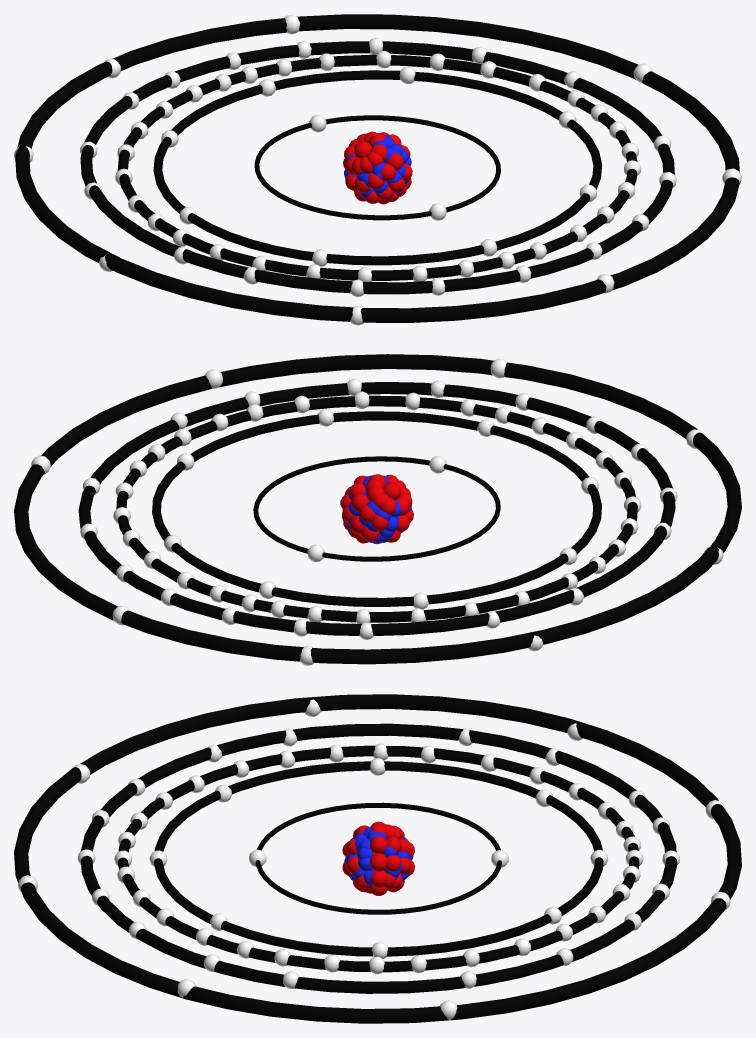
File: 53 Yodo.fbx
3 views of the same model, one above another, from view 1: azimuth 30°, elevation 25°; view 2: azimuth 150°, elevation 25°; view 3: azimuth 270°, elevation 25° (orthographic).
Parts seen in each view (by area): view 1: Orbita.005, Orbita.004, Orbita.003, Orbita.002, Electron.111, Orbita.001; view 2: Orbita.005, Orbita.004, Orbita.003, Orbita.002, Electron.111, Orbita.001; view 3: Orbita.005, Orbita.004, Orbita.003, Orbita.002, Electron.111, Orbita.001.
Part boxes in pixels (box(x1,y1,x2,y2)): Orbita.005: box(15, 14, 739, 322); Orbita.004: box(80, 41, 674, 294); Orbita.003: box(117, 54, 637, 280); Orbita.002: box(153, 70, 602, 265); Electron.111: box(343, 131, 412, 204); Orbita.001: box(254, 115, 500, 220); Orbita.005: box(14, 354, 741, 664); Orbita.004: box(78, 382, 675, 635); Orbita.003: box(116, 395, 637, 622); Orbita.002: box(152, 411, 601, 606); Electron.111: box(340, 474, 413, 543); Orbita.001: box(253, 456, 500, 561); Orbita.005: box(14, 694, 741, 1023); Orbita.004: box(80, 723, 677, 993); Orbita.003: box(118, 745, 639, 972); Orbita.002: box(153, 761, 603, 956); Electron.111: box(342, 821, 414, 895); Orbita.001: box(255, 802, 501, 914).
Bounding box in the file's own units: 27.46 × 27.46 × 2.85.
